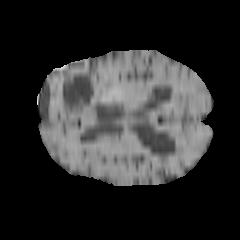glioma: (50, 66, 115, 142)
